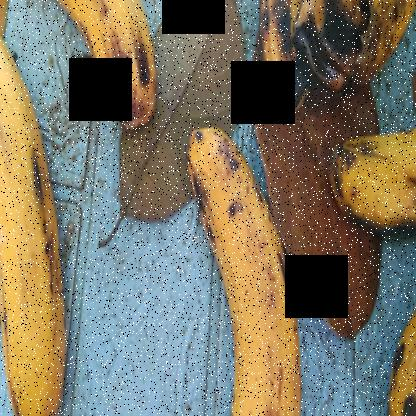overripe: (23, 1, 166, 142), (309, 121, 415, 247), (362, 292, 415, 415)
ripe: (183, 116, 316, 415), (1, 1, 77, 415)
rotten: (299, 1, 415, 92)
